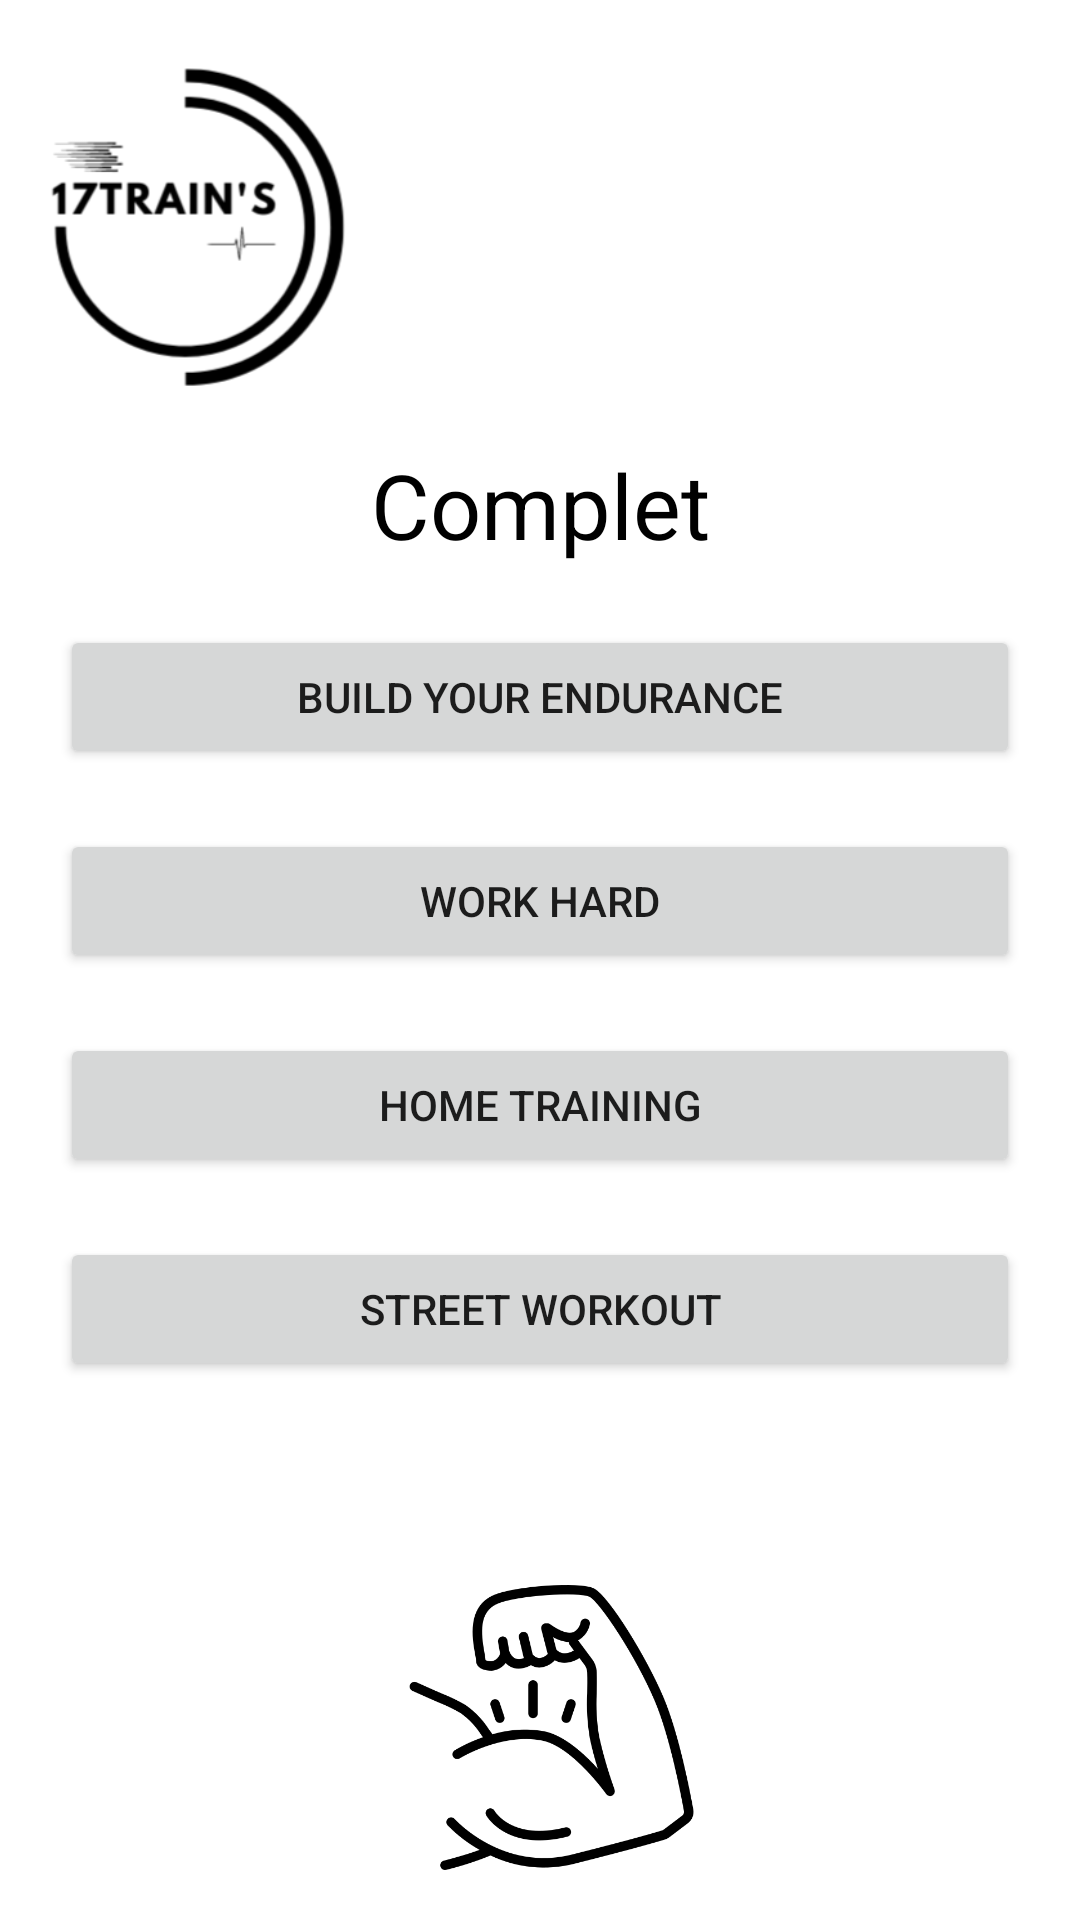

Icons on this 1080px x 1920px Android screen, each with its box as (x1, y1, x2, y2):
musculation: (409, 1585, 694, 1870)
